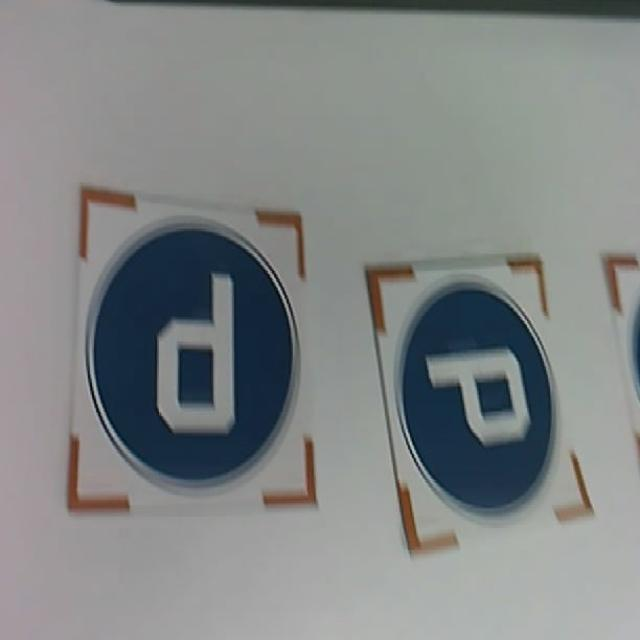parking: (69, 184, 308, 519), (364, 251, 596, 559)
